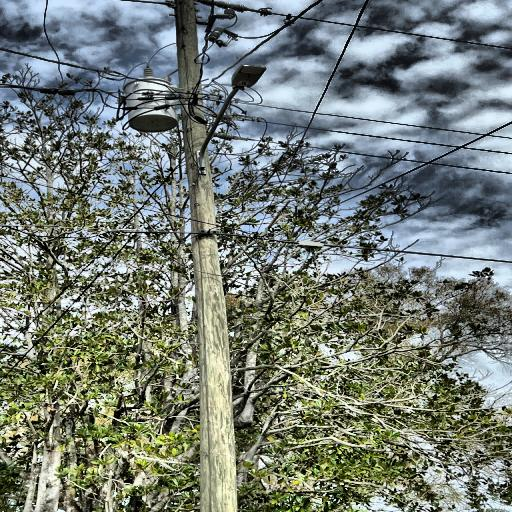pole: (157, 0, 264, 512)
street light: (192, 63, 270, 176)
transformer: (119, 75, 181, 133)
